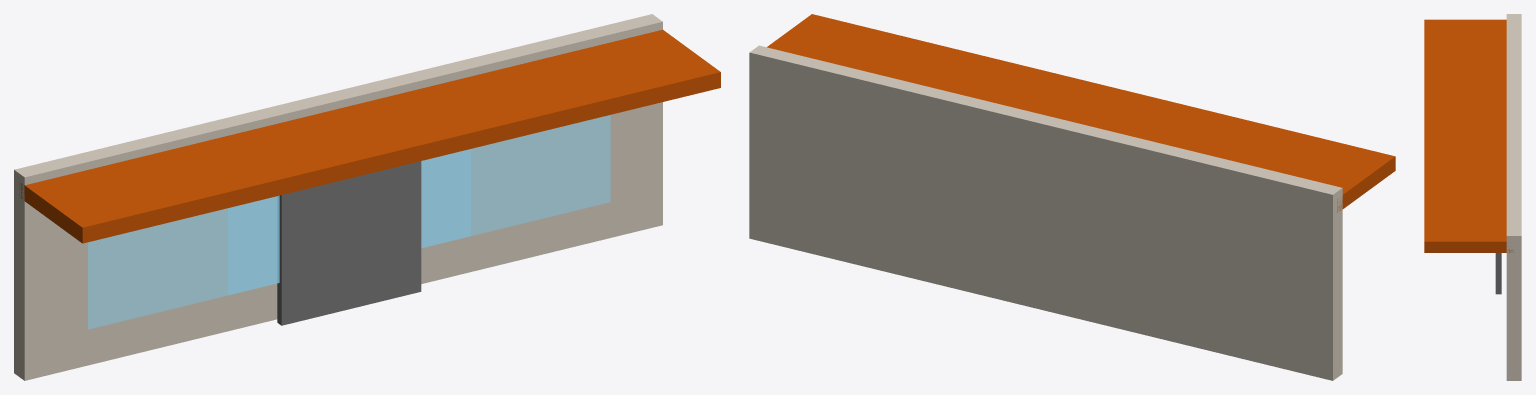
File: stripstore_2005.glb
3 views of the same model, side by side, from view 1: azimuth 30°, elevation 25°; view 2: azimuth 150°, elevation 25°; view 3: azimuth 270°, elevation 25° (orthographic). The views are drawn at different scales.
Parts seen in each view (by area): view 1: stripstore_2005; view 2: stripstore_2005; view 3: stripstore_2005.
Boxes of the visible parts, x1,y1,x2,y2 form: stripstore_2005: (14,14,720,380); stripstore_2005: (749,14,1395,380); stripstore_2005: (1424,14,1521,380).
Bounding box in the file's own units: 10.5 × 3.2 × 1.95.
